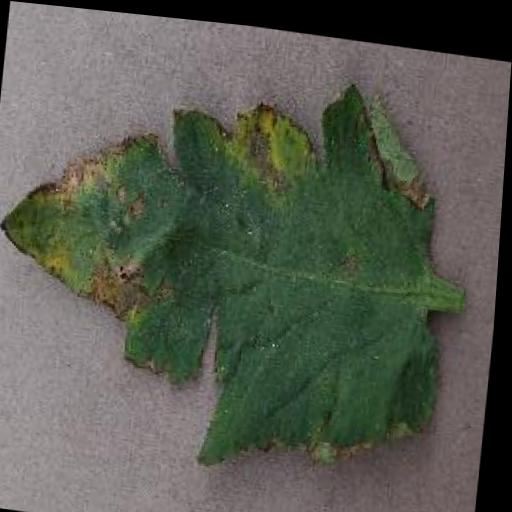Bacterial Spot: (0, 27, 474, 492)
